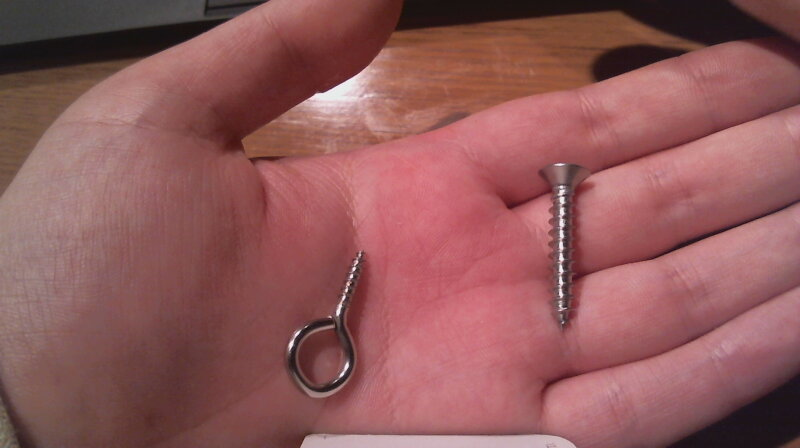O001: (279, 247, 369, 400)
S001: (535, 156, 585, 342)
